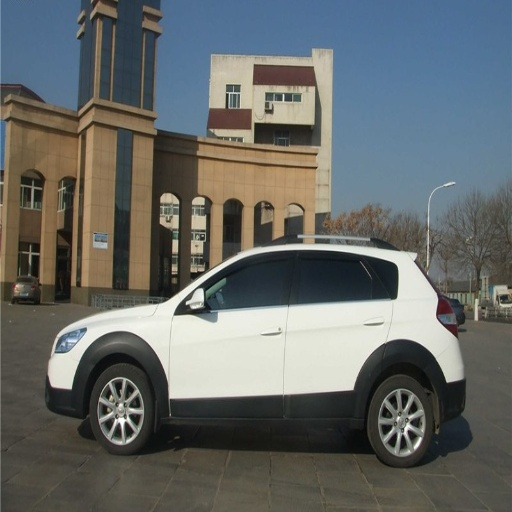back_left_door: (285, 250, 391, 415)
front_left_door: (170, 252, 295, 414)
